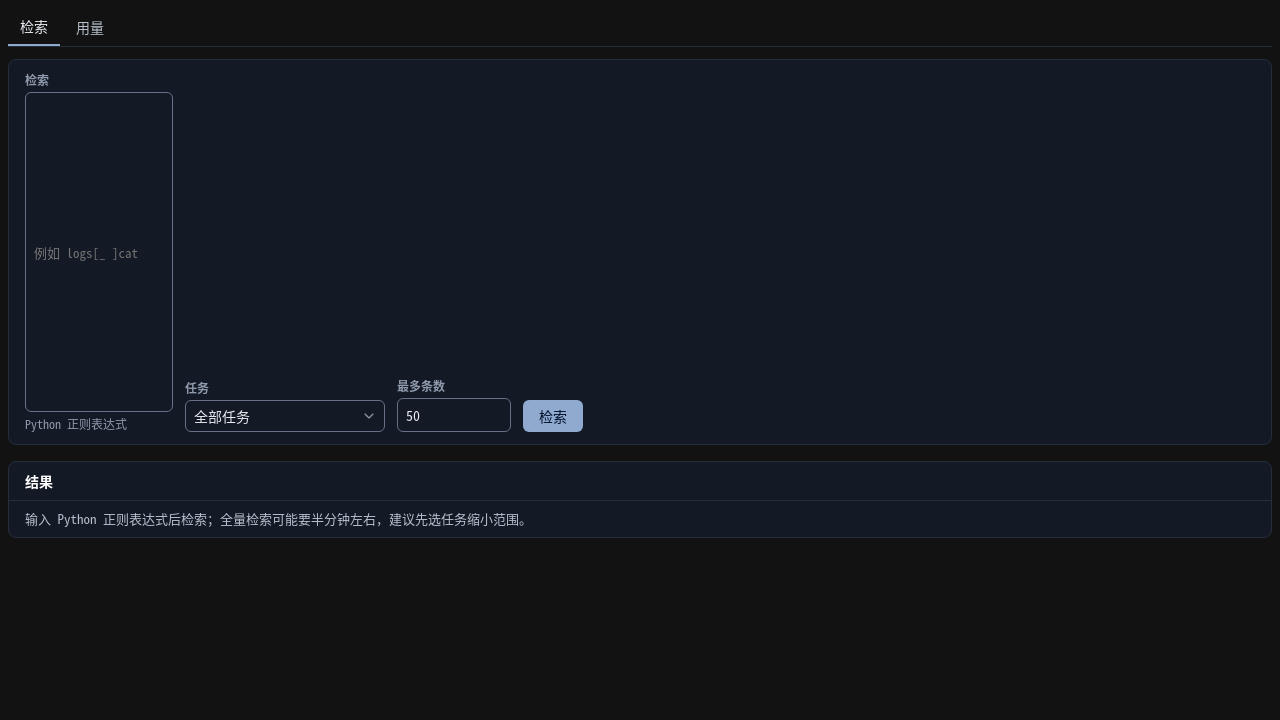
日志与用量：用量 › 固定说明、合计与四项、三个计数标签、跳过的链接
Click the tab "用量": (90, 27) [64, 8, 116, 46]
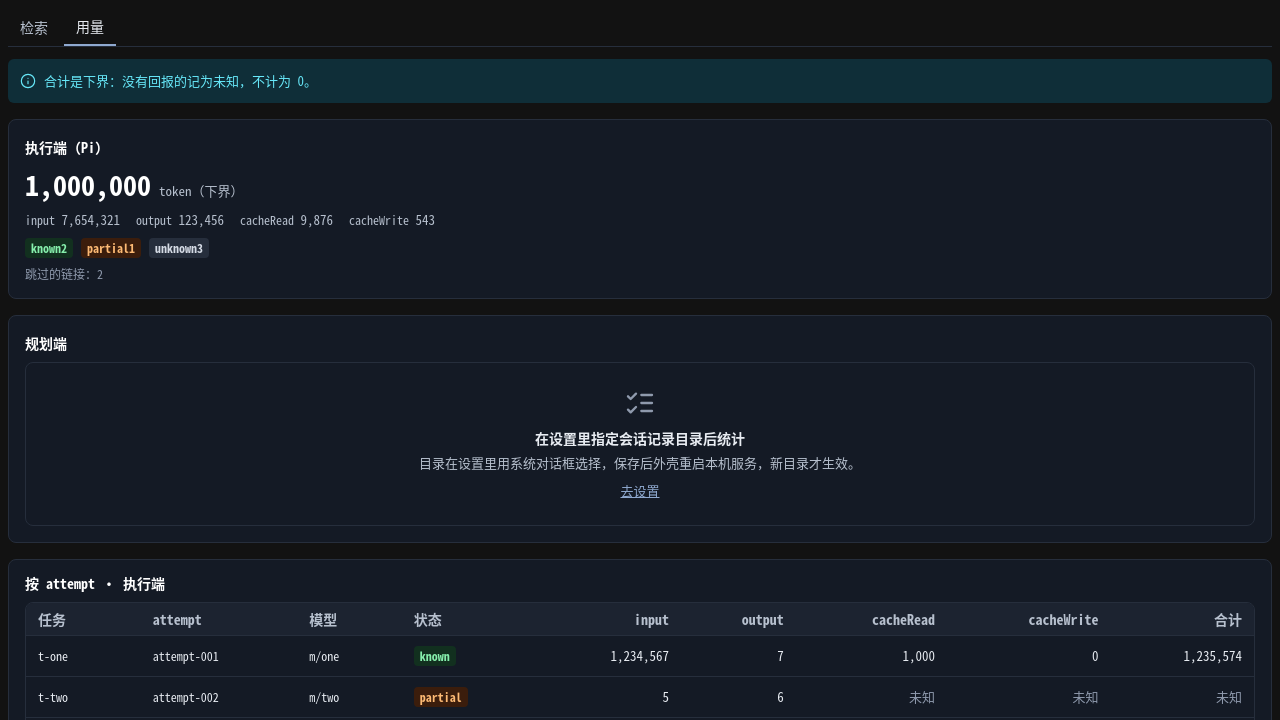
Check: the element showing "known 2" is shown, box [25, 238, 73, 258]
Check: the element showing "partial 1" is shown, box [81, 238, 141, 258]
Check: the element showing "unknown 3" is shown, box [149, 238, 209, 258]
